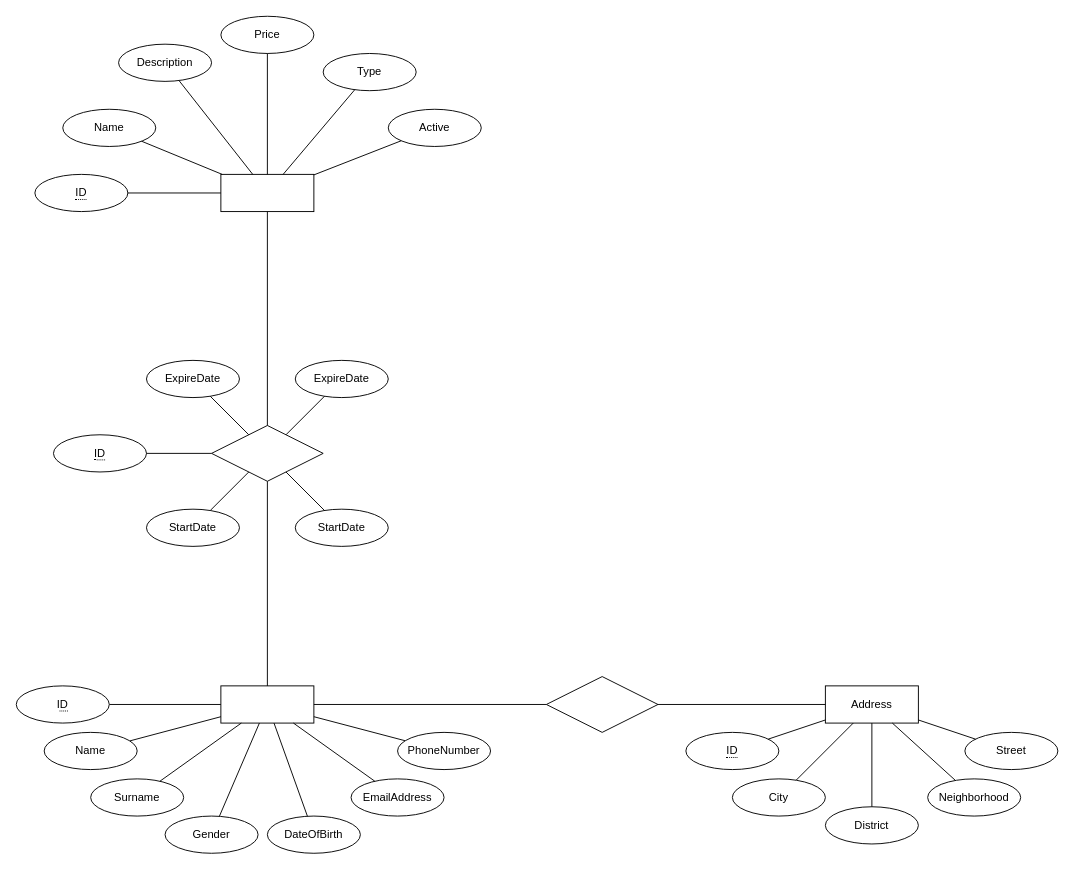
Some shapes in this 1074 by 870 pixel diagram are drawn without their labels. Each missing label, with the centre of its shape:
"Has" goes at [601,704].
"Plan" goes at [267,192].
"Subscribes" goes at [267,453].
"User" goes at [267,704].
